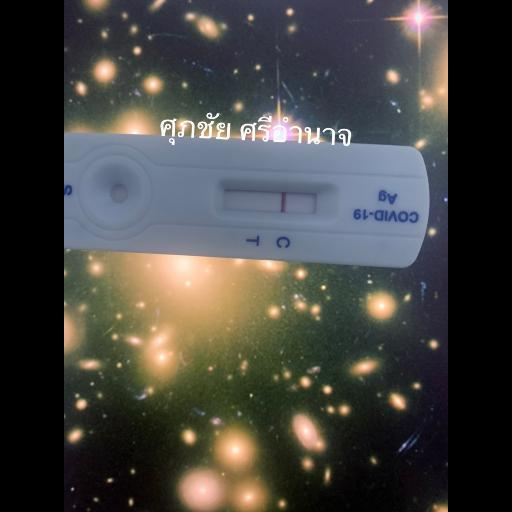Neg: (68, 133, 435, 276)
